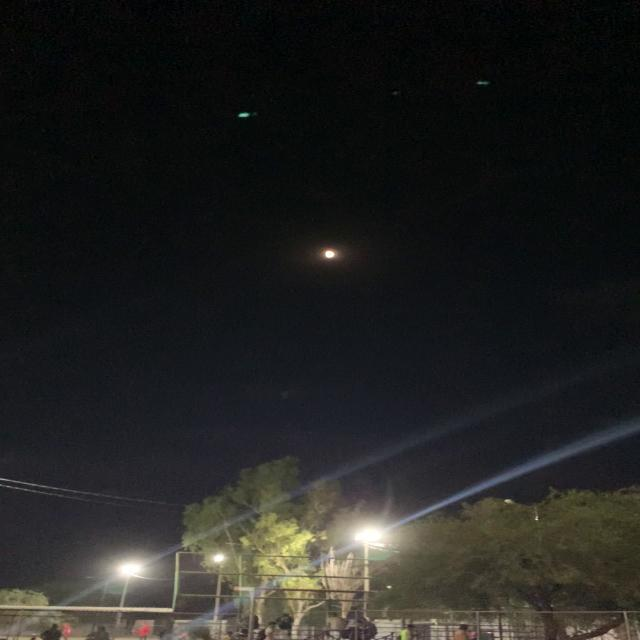moon: (319, 245, 350, 265)
